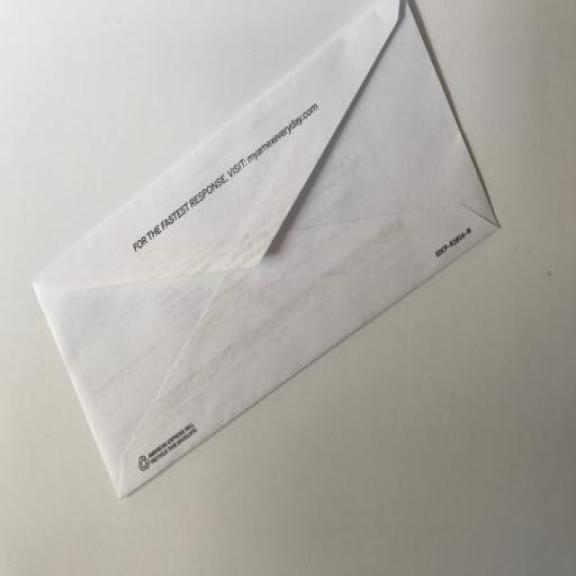Kertas: (25, 0, 509, 508)
